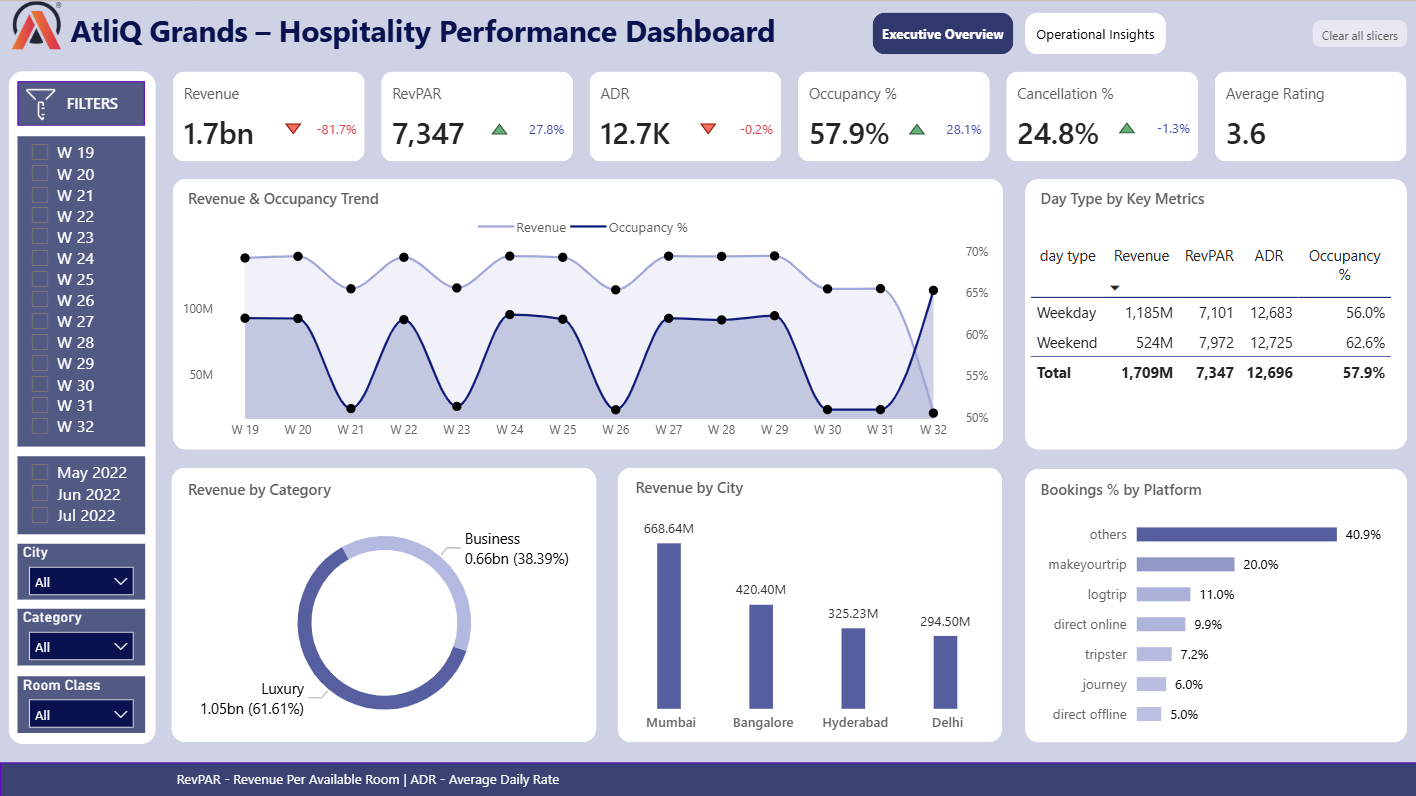

The dashboard page shown, as its layout file describes it:
{"tool":"powerbi","page":{"name":"Executive Overview","canvas":[1280,720],"ordinal":0},"visuals":[{"type":"textbox","box":[58.8,5,651.2,45],"z":0},{"type":"cardVisual","fields":{"Data":["Key_Measures.Revenue","Key_Measures.RevPAR","Key_Measures.ADR","Key_Measures.Occupancy %","Key_Measures.Cancellation %","Key_Measures.Average Rating"]},"box":[149,57,1127,95],"z":0,"group":"g1"},{"type":"shape","box":[155.3,161.4,749.6,244.6],"z":1000},{"type":"shape","box":[557.6,421.9,347.3,248.2],"z":2000},{"type":"shape","box":[155,422,383.8,248],"z":3000},{"type":"image","box":[7.5,0,51.2,45],"z":4000},{"type":"group","id":"g1","title":"Group 1","box":[149,57,1127,95],"z":5000},{"type":"areaChart","fields":{"Category":["dim_date.week no"],"Y":["Key_Measures.Revenue"],"Y2":["Key_Measures.Occupancy %"]},"box":[160.2,184.6,737.4,220.1],"z":6000},{"type":"clusteredColumnChart","fields":{"Category":["dim_hotels.city"],"Y":["Key_Measures.Revenue"]},"box":[555.2,454.9,351,215.2],"z":7000},{"type":"tableEx","fields":{"Values":["Key_Measures.Revenue WoW change %"]},"box":[246.2,80.4,96,49.2],"z":7500,"group":"g1"},{"type":"tableEx","fields":{"Values":["Key_Measures.Revpar WoW change %"]},"box":[432.1,80.4,94.8,49.2],"z":8000,"group":"g1"},{"type":"donutChart","fields":{"Category":["dim_hotels.category"],"Y":["Key_Measures.Revenue"]},"box":[155.3,454.9,382.7,215.2],"z":8000},{"type":"tableEx","fields":{"Values":["Key_Measures.ADR WoW change %"]},"box":[620.4,80.4,94.8,49.2],"z":8500,"group":"g1"},{"type":"tableEx","fields":{"Values":["Key_Measures.Occupancy WoW change %"]},"box":[808.7,80.4,96,49.2],"z":9000,"group":"g1"},{"type":"shape","box":[924.5,423.1,344.8,247],"z":9000},{"type":"tableEx","fields":{"Values":["Key_Measures.Cancellation WoW change %"]},"box":[998,80,95,50],"z":9500,"group":"g1"},{"type":"clusteredBarChart","fields":{"Category":["fact_bookings.booking_platform"],"Y":["Key_Measures.Booking % by Platform"]},"box":[934.2,452.4,324.1,215.2],"z":10000},{"type":"shape","box":[924.5,161.4,344.8,244.6],"z":11000},{"type":"shape","box":[7.5,63.8,132.5,617],"z":12000},{"type":"shape","box":[0,687.5,1280,32.5],"z":13000},{"type":"textbox","box":[165,165,245,27.5],"z":14000},{"type":"textbox","box":[934,427.5,191.2,27.5],"z":15000},{"type":"textbox","box":[568.6,425.5,162.6,28.1],"z":16000},{"type":"textbox","box":[165,427.5,195,27.5],"z":17000},{"type":"shape","box":[16.3,73.5,114.9,40.4],"z":18000},{"type":"image","box":[18.8,76.2,35,35],"z":19000},{"type":"textbox","box":[55.4,78.4,67.3,35.5],"z":20000},{"type":"slicer","fields":{"Values":["dim_date.week no"]},"box":[16.2,122.9,115,280],"z":21000},{"type":"slicer","fields":{"Values":["dim_date.mmm yy"]},"box":[16.2,411.8,115,70],"z":22000},{"type":"slicer","title":"Room Class","fields":{"Values":["dim_rooms.room_class"]},"box":[16.2,610,115,51],"z":23000},{"type":"slicer","title":"Category","fields":{"Values":["dim_hotels.category"]},"box":[16.2,549.8,115,51.2],"z":24000},{"type":"slicer","title":"City","fields":{"Values":["dim_hotels.city"]},"box":[16.2,490.8,115,50],"z":25000},{"type":"textbox","box":[155,687.5,393.8,32.5],"z":26000},{"type":"shape","box":[924.5,11,127.2,37.9],"z":27000},{"type":"shape","box":[787.5,11,127.2,37.9],"z":28000},{"type":"actionButton","box":[1183.7,18.3,85.6,24.5],"z":29000},{"type":"tableEx","fields":{"Values":["dim_date.day type","Key_Measures.Revenue","Key_Measures.RevPAR","Key_Measures.ADR","Key_Measures.Occupancy %"]},"box":[929.4,211.6,339.9,187.1],"z":32000},{"type":"textbox","box":[934,165,245,27.5],"z":33000}]}

Visuals, with their boxes in screenshot pixels (x1, y1, x2, y2), scaled from the page's 1280x720 canvas onto the 1416x796 screenshot:
textbox: [65,6,785,55]
cardVisual - Key_Measures.Revenue x Key_Measures.RevPAR: [165,63,1412,168]
shape: [172,178,1001,449]
shape: [617,466,1001,741]
shape: [171,467,596,741]
image: [8,0,65,50]
"Group 1" group: [165,63,1412,168]
areaChart - dim_date.week no x Key_Measures.Revenue: [177,204,993,447]
clusteredColumnChart - dim_hotels.city x Key_Measures.Revenue: [614,503,1002,741]
tableEx - Key_Measures.Revenue WoW change %: [272,89,379,143]
tableEx - Key_Measures.Revpar WoW change %: [478,89,583,143]
donutChart - dim_hotels.category x Key_Measures.Revenue: [172,503,595,741]
tableEx - Key_Measures.ADR WoW change %: [686,89,791,143]
tableEx - Key_Measures.Occupancy WoW change %: [895,89,1001,143]
shape: [1023,468,1404,741]
tableEx - Key_Measures.Cancellation WoW change %: [1104,88,1209,144]
clusteredBarChart - fact_bookings.booking_platform x Key_Measures.Booking % by Platform: [1033,500,1392,738]
shape: [1023,178,1404,449]
shape: [8,71,155,753]
shape: [0,760,1415,795]
textbox: [183,182,454,213]
textbox: [1033,473,1245,503]
textbox: [629,470,809,501]
textbox: [183,473,398,503]
shape: [18,81,145,126]
image: [21,84,60,123]
textbox: [61,87,136,126]
slicer - dim_date.week no: [18,136,145,445]
slicer - dim_date.mmm yy: [18,455,145,533]
"Room Class" slicer: [18,674,145,731]
"Category" slicer: [18,608,145,664]
"City" slicer: [18,543,145,598]
textbox: [171,760,607,795]
shape: [1023,12,1163,54]
shape: [871,12,1012,54]
actionButton: [1309,20,1404,47]
tableEx - dim_date.day type x Key_Measures.Revenue: [1028,234,1404,441]
textbox: [1033,182,1304,213]
